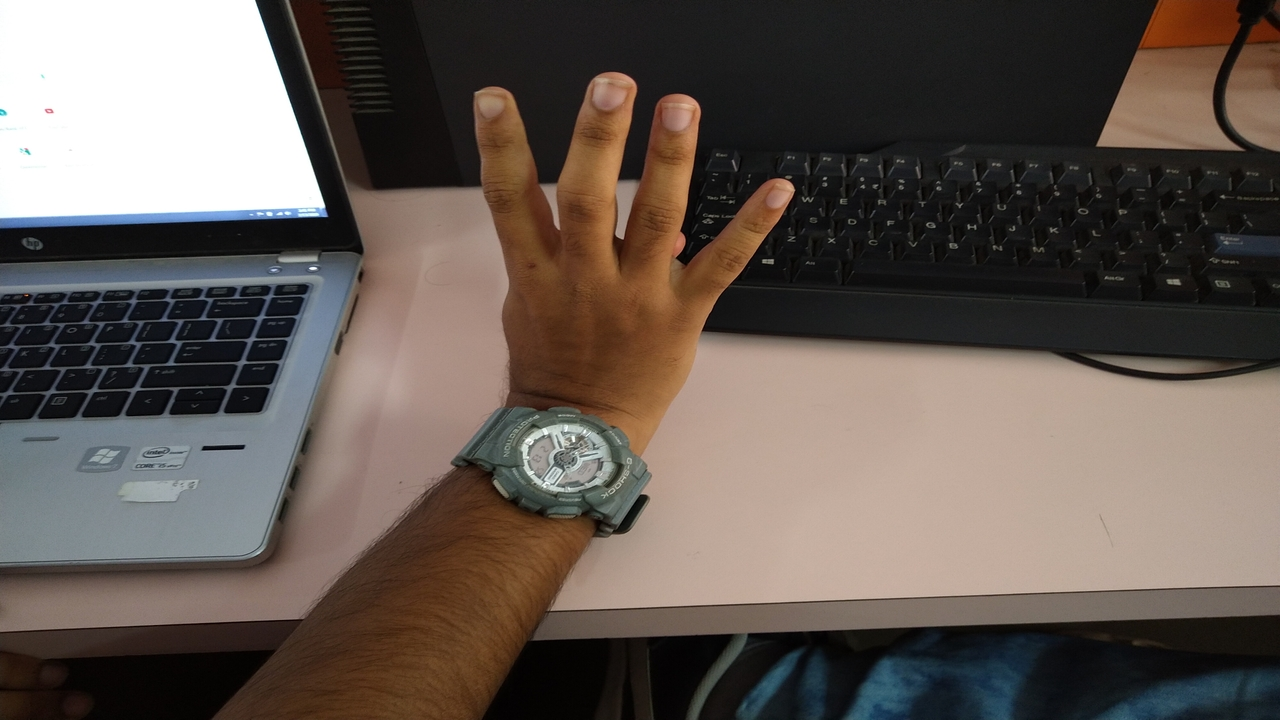fingertip: (576, 68, 636, 118), (748, 167, 801, 214), (468, 84, 524, 124), (650, 90, 700, 134)
